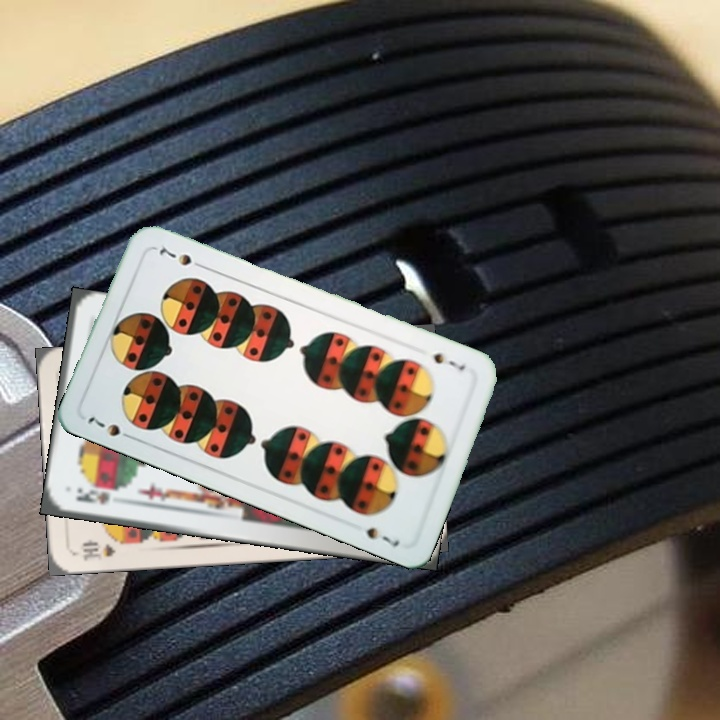S10: (78, 537, 119, 563)
S7: (83, 412, 138, 443), (429, 349, 468, 373)
SK: (72, 484, 112, 507)
